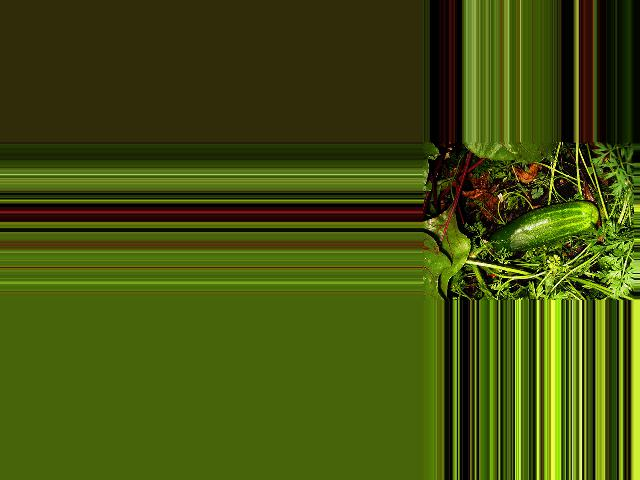cucumber: (488, 200, 596, 254)
